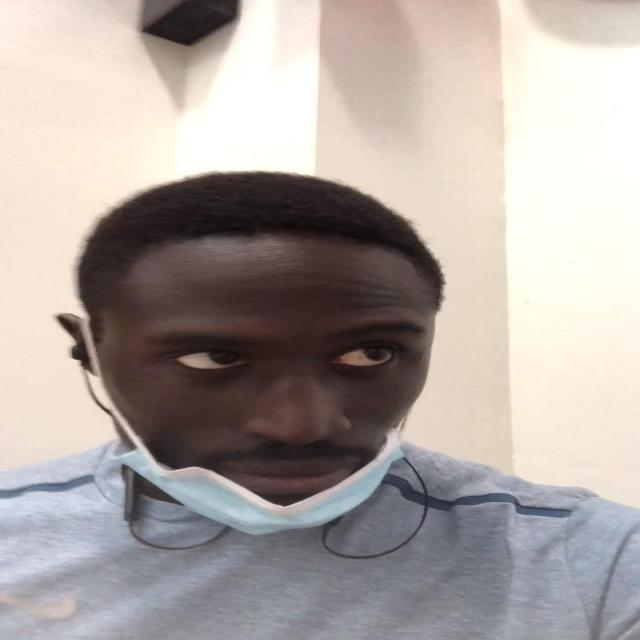face: (90, 260, 434, 540)
